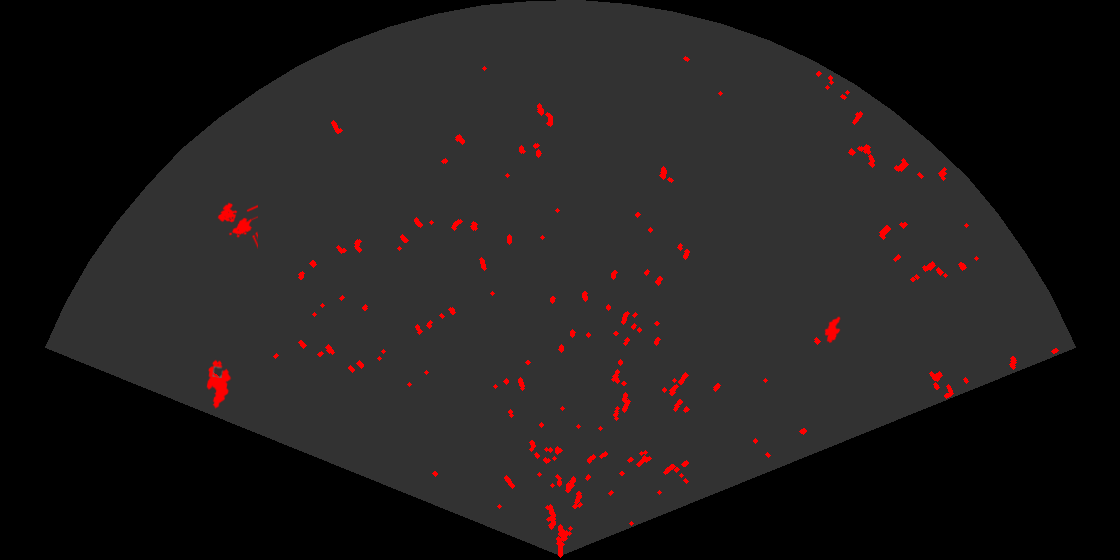AUV: (205, 358, 233, 411), (823, 315, 842, 345)
cage: (216, 201, 258, 249)
